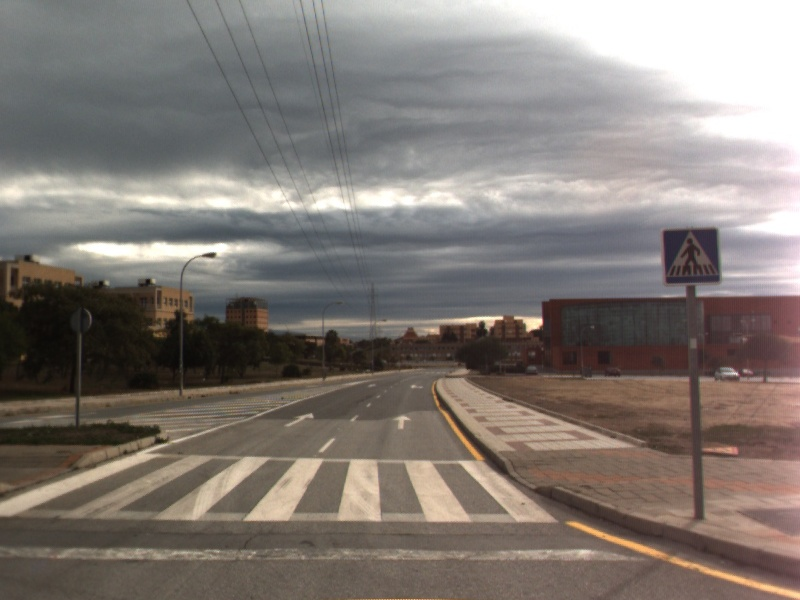STRAIGHT: (281, 411, 316, 429), (390, 412, 413, 431)
